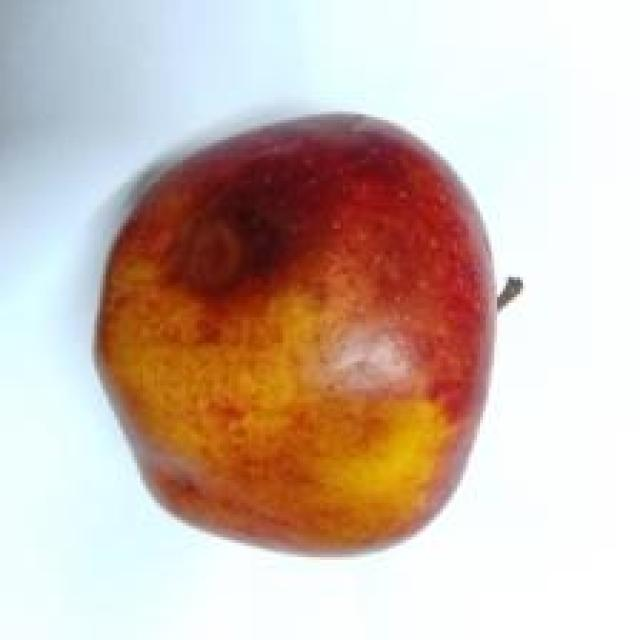rotten apple: (66, 85, 538, 589)
